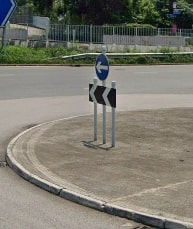Turn Left: (93, 55, 110, 81)
Turn Left(quick): (88, 83, 116, 109)
